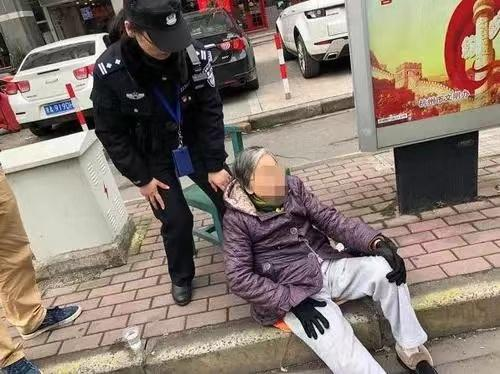bending: (217, 144, 431, 374), (91, 1, 243, 301)
